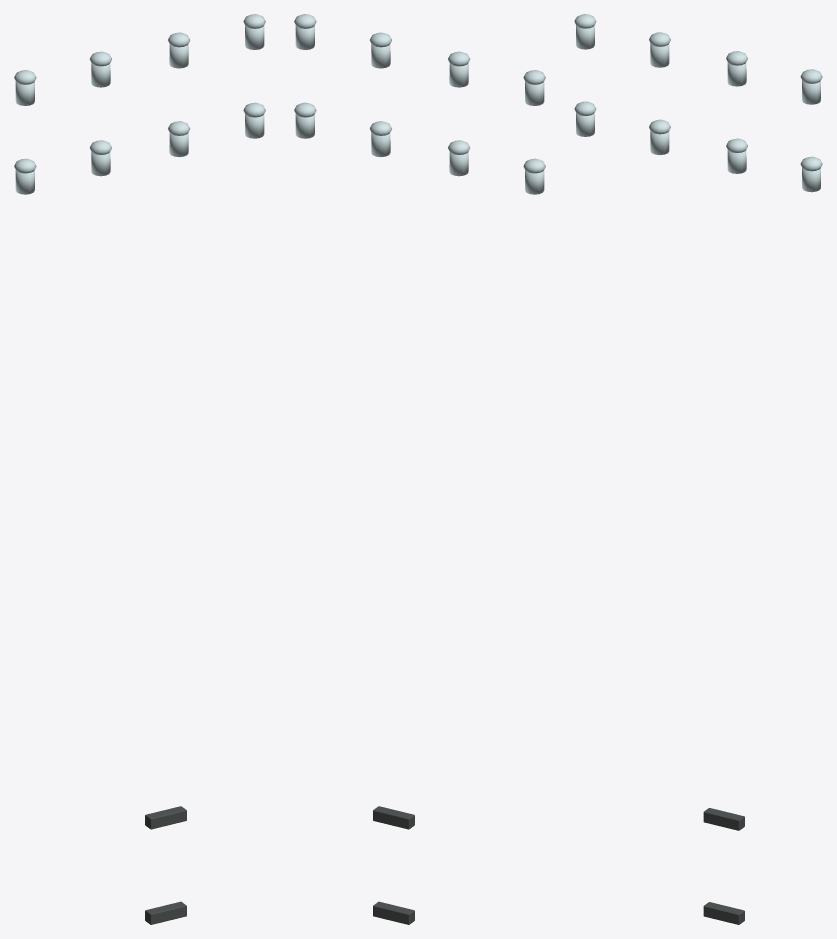
File: Telegraph_Pole_01_LOD1.fbx
3 renders of one model, left to right at view 1: azimuth 30°, elevation 25°; view 2: azimuth 150°, elevation 25°; view 3: azimuth 330°, elevation 25°, orthographic.
Parts seen in each view (by area): view 1: Telegraph_Pole_01_OPT_Merged_RB_Acetylene_Glass_OPT_DATA_LOD, Telegraph_Pole_01_OPT_Merged_RB_Steel_Blackened_OPT_DATA_LOD; view 2: Telegraph_Pole_01_OPT_Merged_RB_Acetylene_Glass_OPT_DATA_LOD, Telegraph_Pole_01_OPT_Merged_RB_Steel_Blackened_OPT_DATA_LOD; view 3: Telegraph_Pole_01_OPT_Merged_RB_Acetylene_Glass_OPT_DATA_LOD, Telegraph_Pole_01_OPT_Merged_RB_Steel_Blackened_OPT_DATA_LOD.
Part boxes in pixels (x1,y1,x2,y2): Telegraph_Pole_01_OPT_Merged_RB_Acetylene_Glass_OPT_DATA_LOD: (14, 14, 265, 194); Telegraph_Pole_01_OPT_Merged_RB_Steel_Blackened_OPT_DATA_LOD: (145, 806, 186, 924); Telegraph_Pole_01_OPT_Merged_RB_Acetylene_Glass_OPT_DATA_LOD: (294, 14, 545, 194); Telegraph_Pole_01_OPT_Merged_RB_Steel_Blackened_OPT_DATA_LOD: (373, 806, 414, 924); Telegraph_Pole_01_OPT_Merged_RB_Acetylene_Glass_OPT_DATA_LOD: (574, 14, 822, 192); Telegraph_Pole_01_OPT_Merged_RB_Steel_Blackened_OPT_DATA_LOD: (703, 808, 744, 924).
Size of what is drawn, in the model's own units: 191 by 647 by 15.
